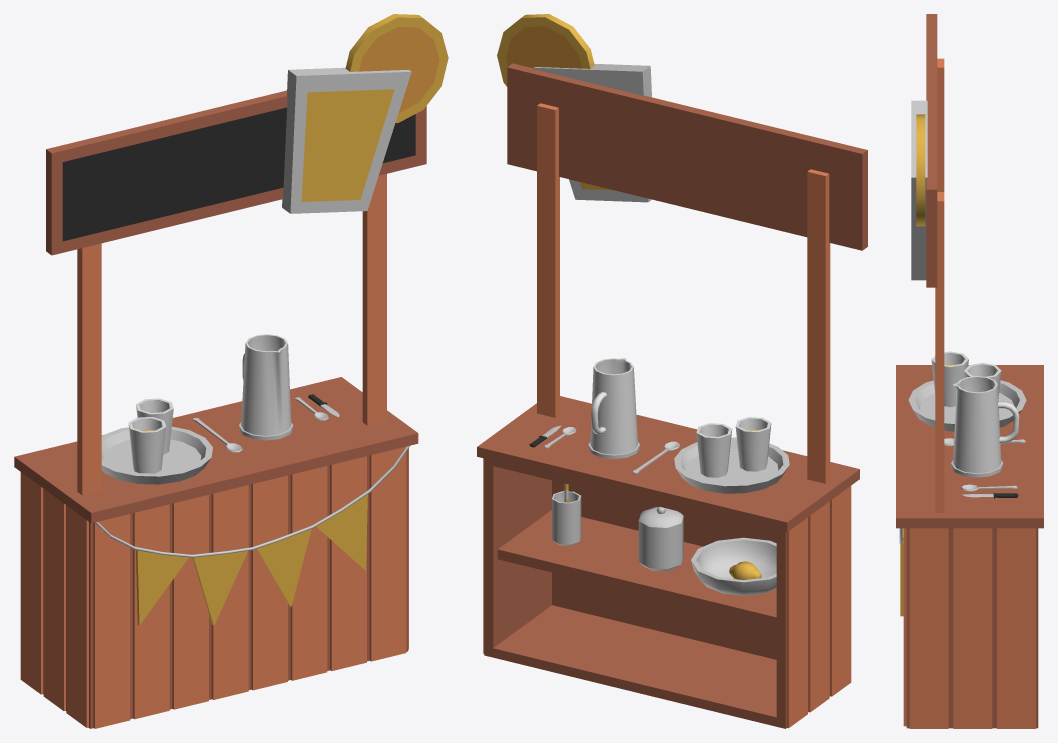
File: LemonadeStand_01.fbx
3 renders of one model, left to right at view 1: azimuth 30°, elevation 25°; view 2: azimuth 150°, elevation 25°; view 3: azimuth 270°, elevation 25°, orthographic. The views are drawn at different scales.
Visible parts, largest first — view 1: LemonadeStand_01, GlassJug_01, LemonadeTray_01, LemonadeGlass_01_Full, LemonadeGlass_01_Empty; view 2: LemonadeStand_01, GlassJug_01, FruitBowl_01, LemonadeTray_01, SugarContainer_01, LemonadeGlass_01_Full, LemonadeGlass_01_Empty, StrawContainer_01, SugarContainer_01_Top; view 3: LemonadeStand_01, GlassJug_01, LemonadeTray_01, LemonadeGlass_01_Full, LemonadeGlass_01_Empty.
Part boxes in pixels (box(x1,y1,x2,y2)): LemonadeStand_01: box(14, 14, 448, 728); GlassJug_01: box(239, 334, 293, 440); LemonadeTray_01: box(101, 426, 212, 484); LemonadeGlass_01_Full: box(128, 417, 166, 473); LemonadeGlass_01_Empty: box(136, 398, 173, 454); LemonadeStand_01: box(477, 14, 867, 728); GlassJug_01: box(588, 358, 639, 458); FruitBowl_01: box(691, 537, 776, 595); LemonadeTray_01: box(674, 437, 789, 493); SugarContainer_01: box(638, 519, 683, 571); LemonadeGlass_01_Full: box(735, 417, 771, 471); LemonadeGlass_01_Empty: box(696, 423, 732, 477); StrawContainer_01: box(552, 491, 581, 545); SugarContainer_01_Top: box(638, 506, 683, 530); LemonadeStand_01: box(896, 14, 1043, 728); GlassJug_01: box(951, 376, 1019, 477); LemonadeTray_01: box(908, 380, 1026, 431); LemonadeGlass_01_Full: box(931, 351, 968, 407); LemonadeGlass_01_Empty: box(964, 363, 1001, 398).
Bounding box in the file's own units: 1.37 × 2.1 × 0.4646.
